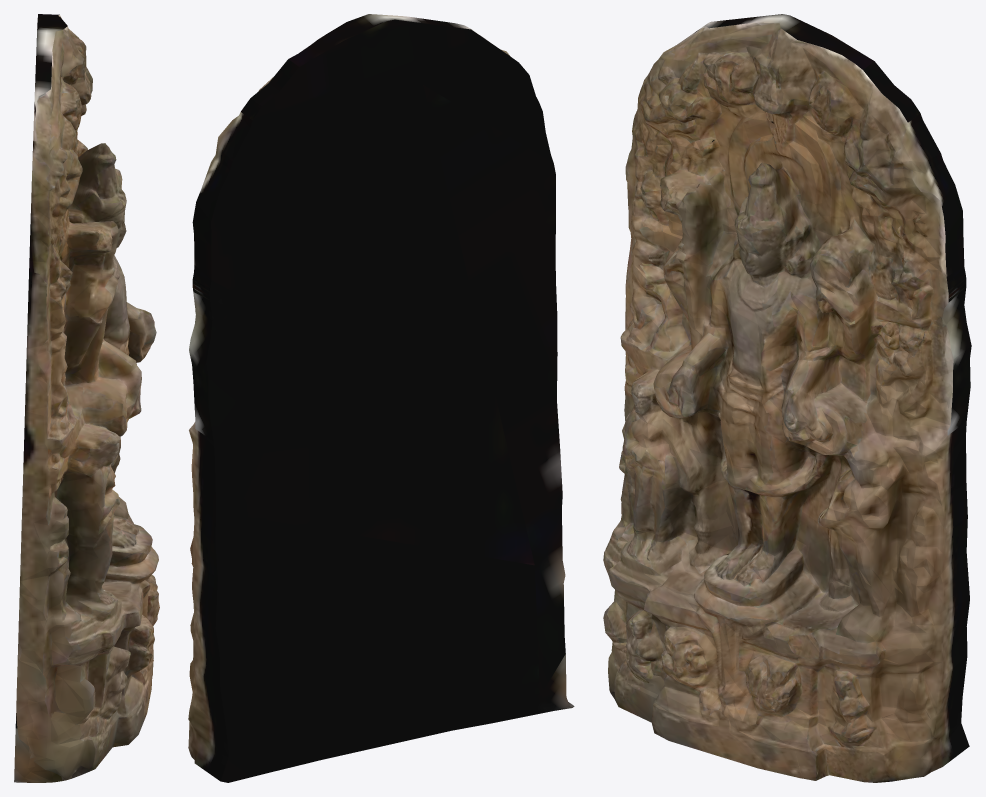
Rendered from vishnu-pala-lo.glb.
3 renders of one model, left to right at view 1: azimuth 30°, elevation 25°; view 2: azimuth 150°, elevation 25°; view 3: azimuth 270°, elevation 25°, orthographic. The views are drawn at different scales.
Visible parts, largest first — view 1: mainMeshNode; view 2: mainMeshNode; view 3: mainMeshNode.
Part boxes in pixels (x1=…): mainMeshNode: x1=14, y1=14, x2=159, y2=782; mainMeshNode: x1=188, y1=14, x2=574, y2=782; mainMeshNode: x1=603, y1=14, x2=971, y2=782.
Bounding box in the file's own units: 1.87 × 5.2 × 2.46.
1 material, 1 textured.
